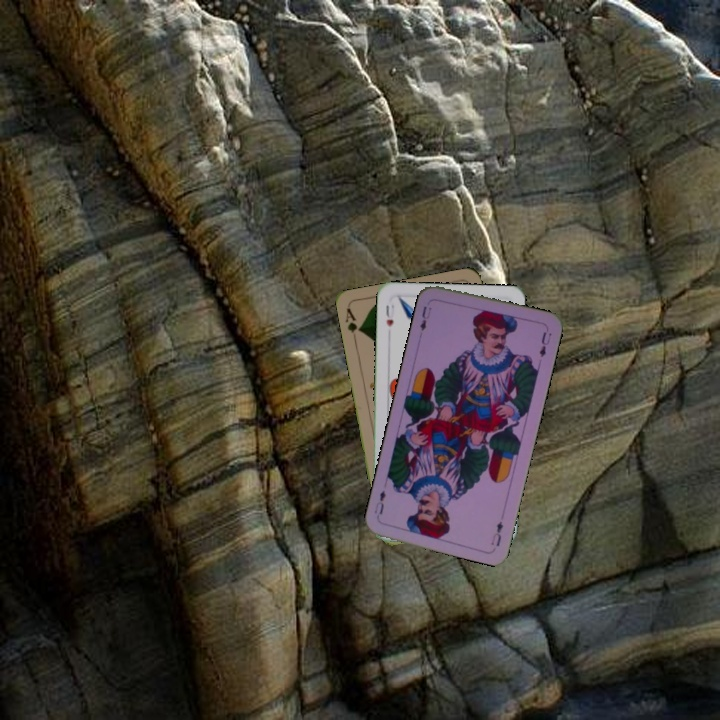EU: (487, 517, 506, 549), (416, 302, 434, 334)
GA: (341, 304, 364, 345)
HU: (382, 301, 397, 329)
